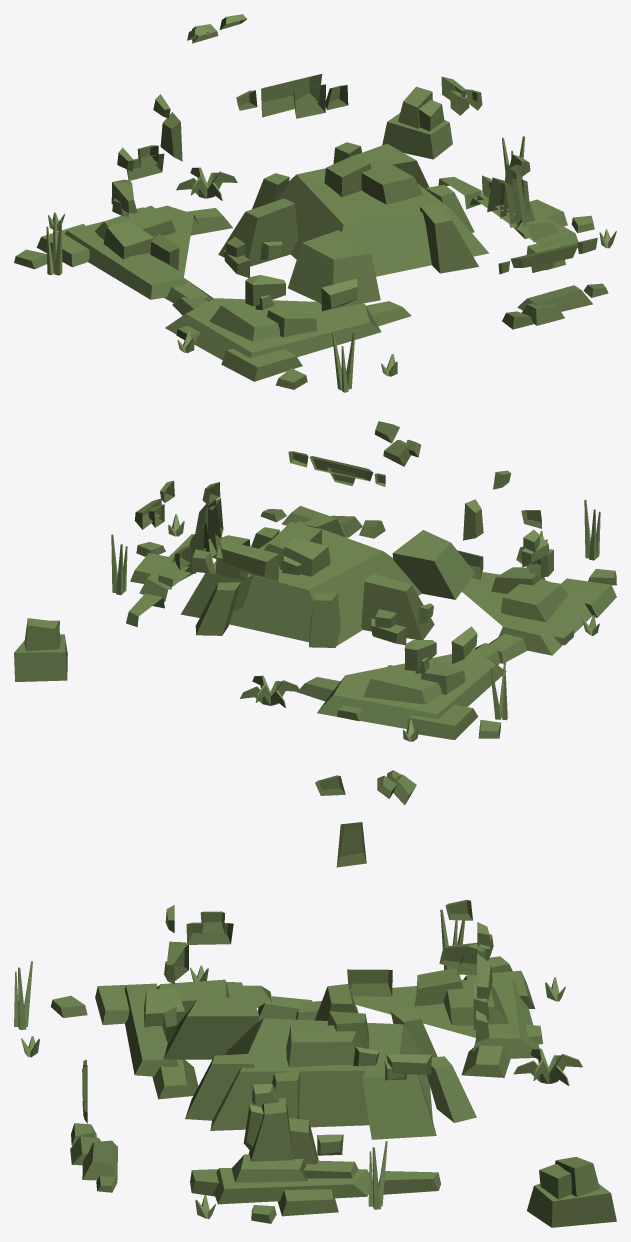
File: SA_Bld_House_Growth_01.gltf
The picture shows the model from 3 angles, top to bottom: view 1: azimuth 30°, elevation 25°; view 2: azimuth 150°, elevation 25°; view 3: azimuth 270°, elevation 25°; orthographic projection. The views are drawn at different scales.
Visible parts, largest first — view 1: SA_Bld_House_Growth_01; view 2: SA_Bld_House_Growth_01; view 3: SA_Bld_House_Growth_01.
Boxes of the visible parts, x1,y1,x2,y2 form: SA_Bld_House_Growth_01: [14, 14, 616, 392]; SA_Bld_House_Growth_01: [14, 421, 616, 741]; SA_Bld_House_Growth_01: [14, 770, 616, 1227].
Size of the model in its own units: 21.13 by 10.97 by 20.68.
1 material, 1 textured.
